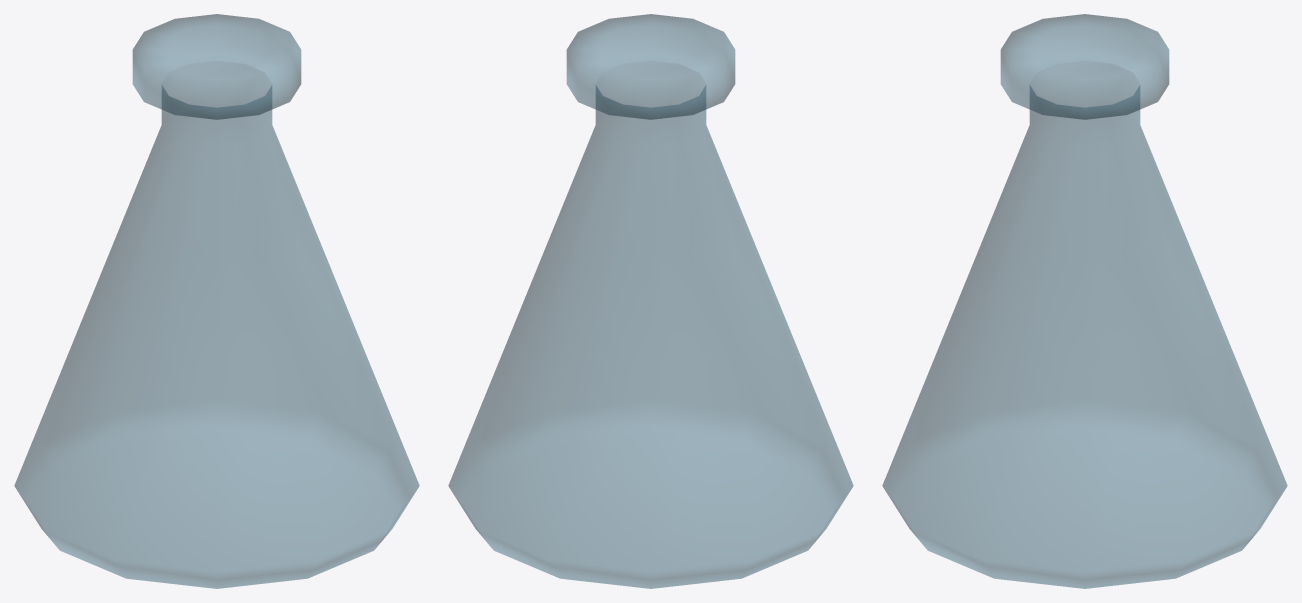
Rendered from Flask.fbx.
3 renders of one model, left to right at view 1: azimuth 30°, elevation 25°; view 2: azimuth 150°, elevation 25°; view 3: azimuth 270°, elevation 25°, orthographic.
Visible parts, largest first — view 1: Flask; view 2: Flask; view 3: Flask.
Boxes of the visible parts, x1,y1,x2,y2 form: Flask: (14, 14, 419, 588); Flask: (448, 14, 853, 588); Flask: (882, 14, 1287, 588).
Bounding box in the file's own units: 55.69 × 70.1 × 55.69.
